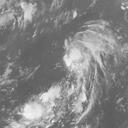cyclone: (64, 21, 115, 78)
